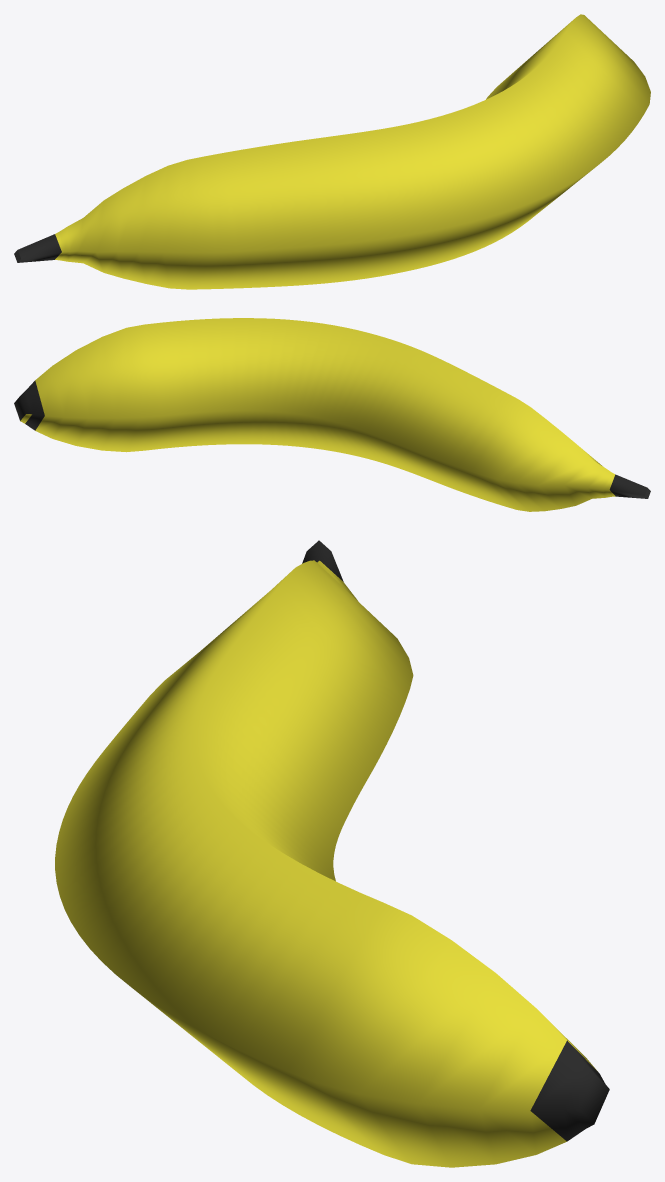
File: Banana.fbx
3 renders of one model, top to bottom at view 1: azimuth 30°, elevation 25°; view 2: azimuth 150°, elevation 25°; view 3: azimuth 270°, elevation 25°, orthographic. The views are drawn at different scales.
Parts seen in each view (by area): view 1: NurbsPath; view 2: NurbsPath; view 3: NurbsPath.
Boxes of the visible parts, <box> form: NurbsPath: <box>14,14,650,289</box>; NurbsPath: <box>14,318,650,511</box>; NurbsPath: <box>55,540,609,1167</box>.
Bounding box in the file's own units: 474 × 100 × 199.
